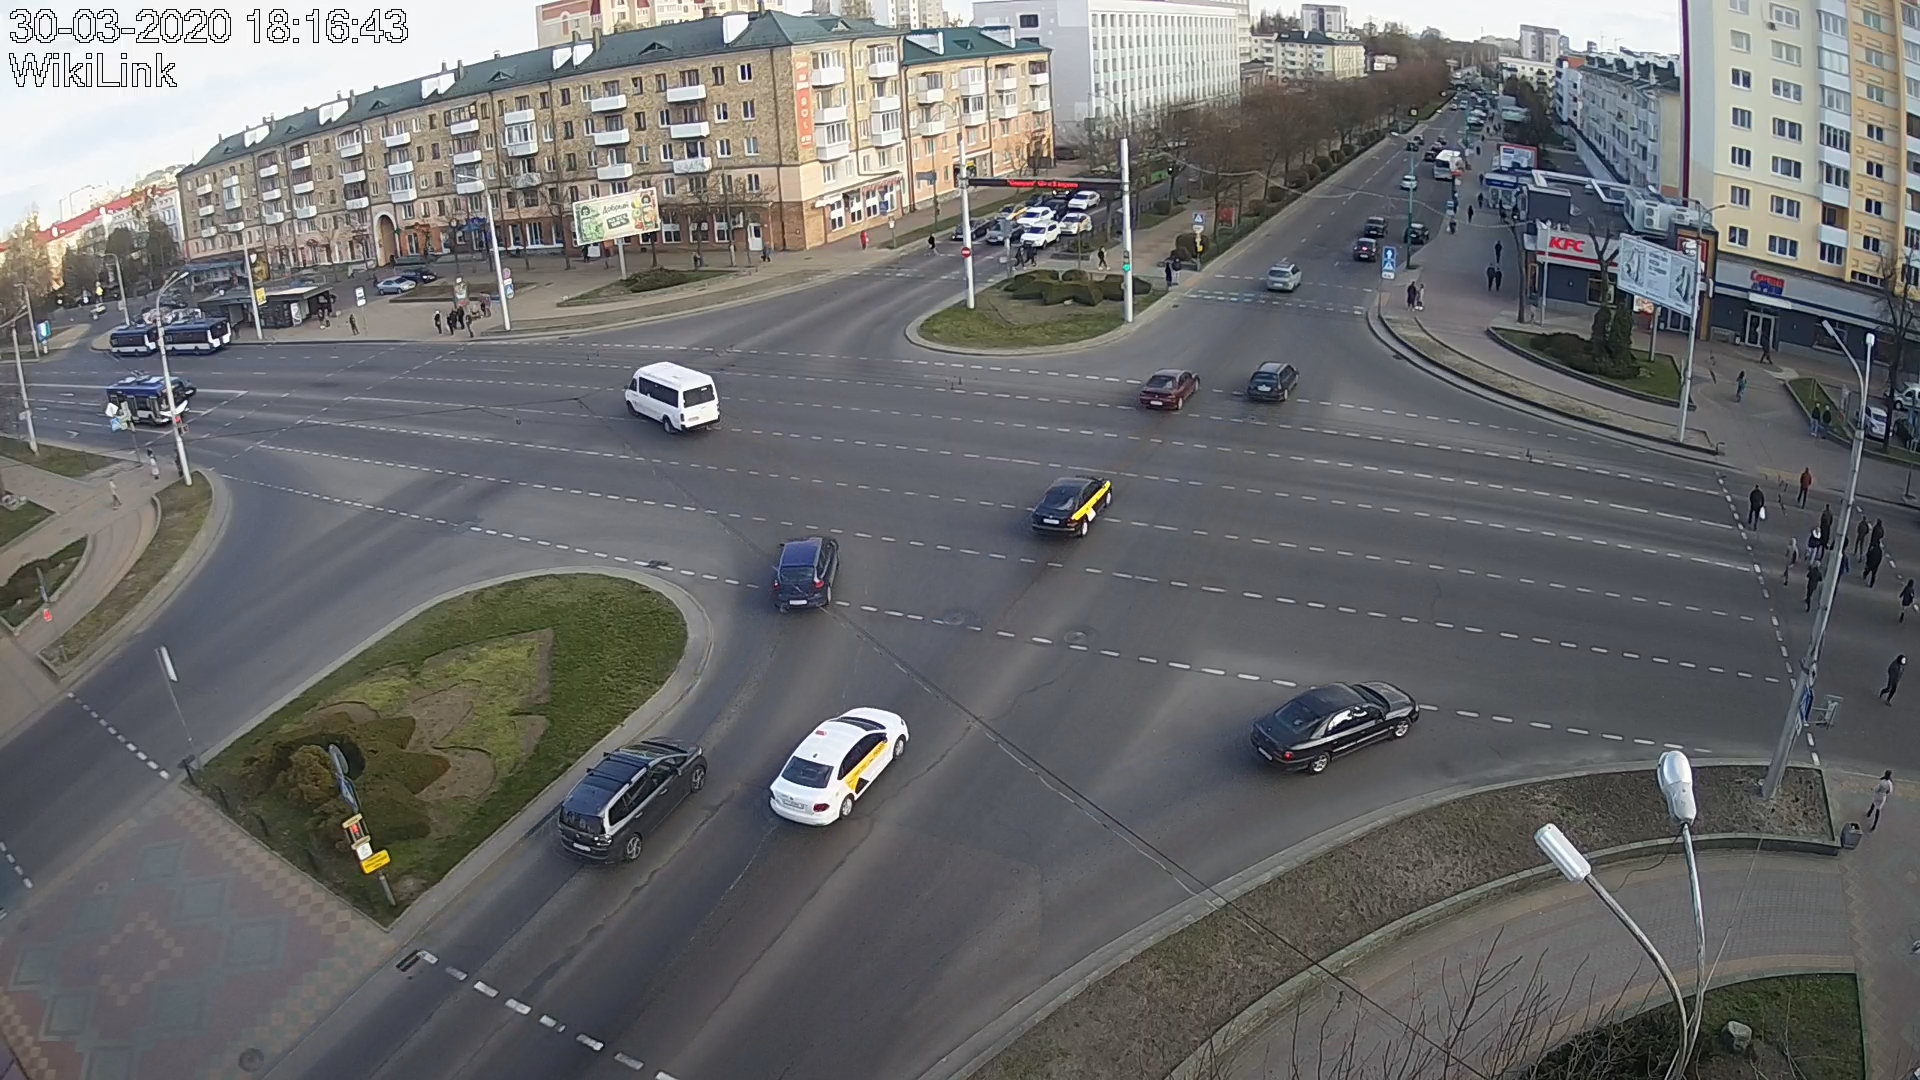bus: (105, 376, 190, 429), (164, 316, 232, 357)
car: (558, 736, 708, 865), (767, 707, 910, 827), (1250, 680, 1420, 775), (624, 361, 720, 433), (1031, 473, 1112, 537), (773, 535, 839, 612), (1141, 368, 1203, 411), (1247, 363, 1299, 402), (1021, 219, 1060, 247), (1266, 261, 1302, 291), (952, 218, 992, 241), (1015, 207, 1056, 229), (1058, 212, 1092, 237), (986, 222, 1025, 243)
